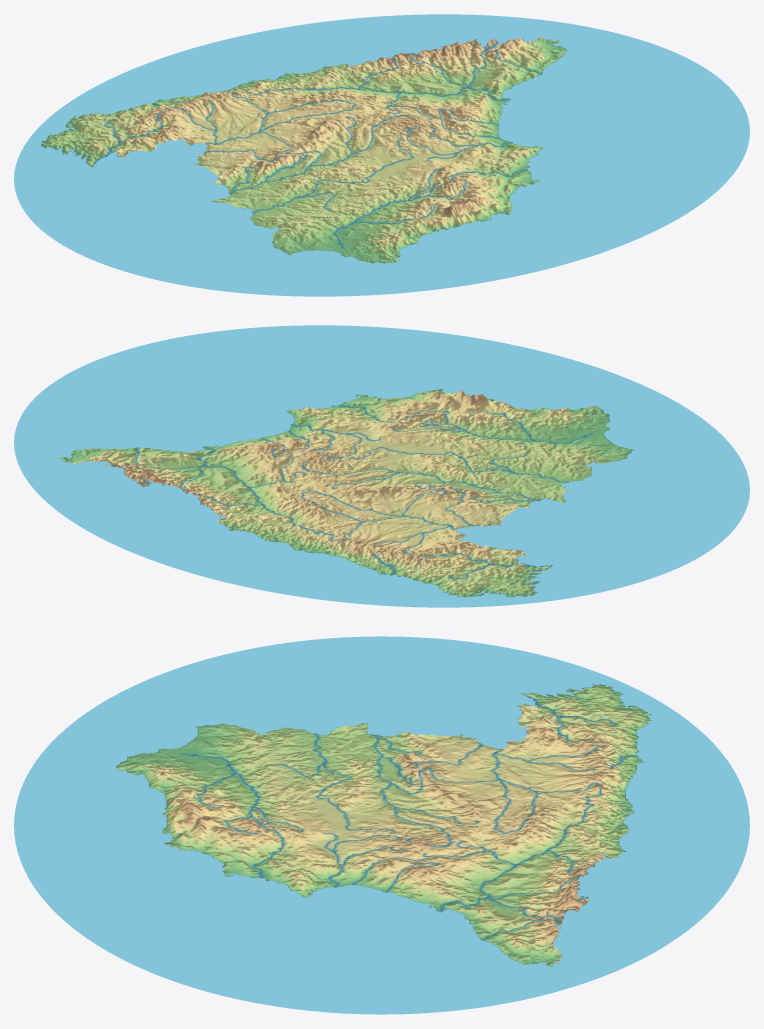
Rendered from ESP-terrain.glb.
3 views of the same model, one above another, from view 1: azimuth 30°, elevation 25°; view 2: azimuth 150°, elevation 25°; view 3: azimuth 270°, elevation 25° (orthographic). The views are drawn at different scales.
Parts seen in each view (by area): view 1: Relevo com hidrografia; view 2: Relevo com hidrografia; view 3: Relevo com hidrografia.
Boxes of the visible parts, bbox=[...] form: Relevo com hidrografia: bbox=[14, 14, 749, 296]; Relevo com hidrografia: bbox=[14, 325, 749, 607]; Relevo com hidrografia: bbox=[14, 636, 749, 1014].
Bounding box in the file's own units: 2.15 × 0.0463 × 1.77.
2 materials, 1 textured.
